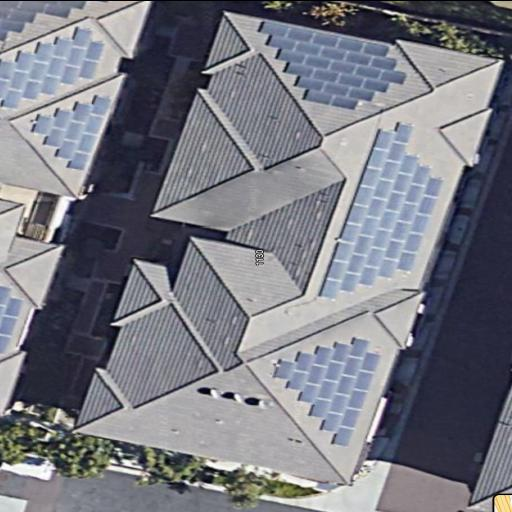Solar-Slope-Roof: (74, 12, 502, 483)
